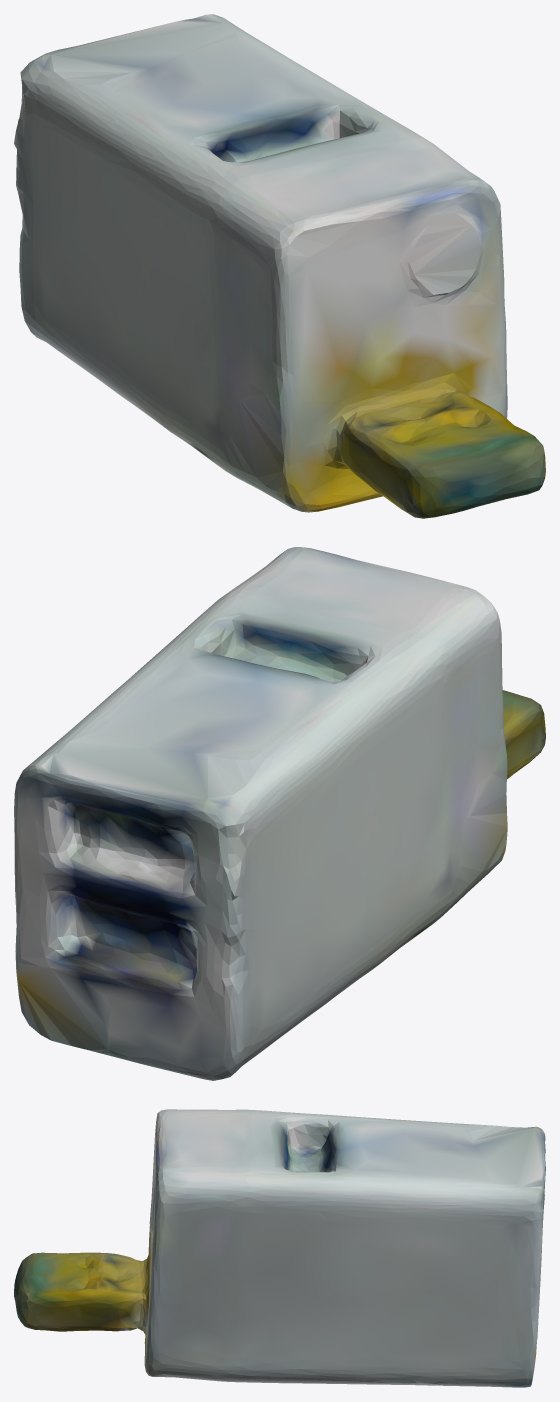
File: scan.obj
The picture shows the model from 3 angles, top to bottom: view 1: azimuth 30°, elevation 25°; view 2: azimuth 150°, elevation 25°; view 3: azimuth 270°, elevation 25°; orthographic projection. The views are drawn at different scales.
Parts seen in each view (by area): view 1: scan.ply; view 2: scan.ply; view 3: scan.ply.
Boxes of the visible parts, bbox=[...] form: scan.ply: bbox=[14, 14, 545, 518]; scan.ply: bbox=[14, 547, 545, 1080]; scan.ply: bbox=[14, 1109, 545, 1387].
Bounding box in the file's own units: 0.0213 × 0.0269 × 0.0589.
